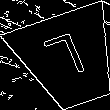L_S: (43, 31, 95, 89)
